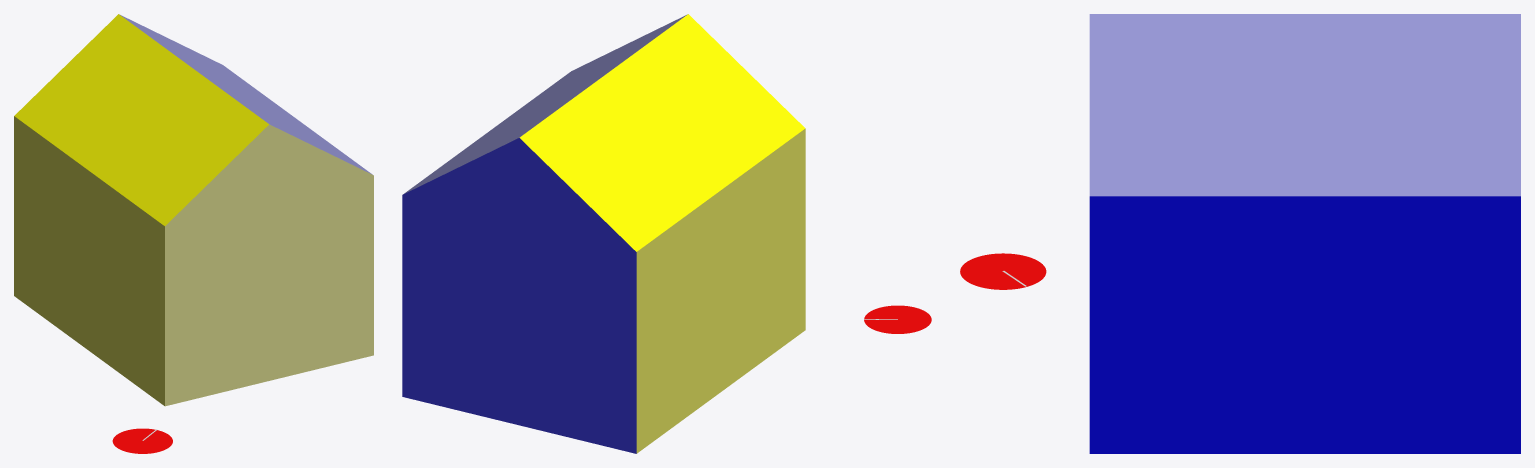
Rendered from result.glb.
3 renders of one model, left to right at view 1: azimuth 30°, elevation 25°; view 2: azimuth 150°, elevation 25°; view 3: azimuth 270°, elevation 25°, orthographic. The views are drawn at different scales.
Visible parts, largest first — view 1: c977d32d-4460-41e7-8609-a6d73a7ba4db__undefined, dfb93816-a611-49a3-a8ef-96ea596f0516__undefined, 6f1d40ad-c9a0-425a-af7d-65720e94d9b1__undefined, b4e93b13-15a7-4a49-be53-9a7135158794__undefined, 385c4873-cb8c-447d-9b7a-fa519c753bcb__Circle; view 2: 127f5744-077b-455f-afeb-7c866529dd30__undefined, dfb93816-a611-49a3-a8ef-96ea596f0516__undefined, 6f1d40ad-c9a0-425a-af7d-65720e94d9b1__undefined, b4e93b13-15a7-4a49-be53-9a7135158794__undefined, 385c4873-cb8c-447d-9b7a-fa519c753bcb__Circle; view 3: ea82c643-77cf-49f3-8a63-f17103bcdd37__undefined, b4e93b13-15a7-4a49-be53-9a7135158794__undefined, 385c4873-cb8c-447d-9b7a-fa519c753bcb__Circle.
Part boxes in pixels (x1=…): c977d32d-4460-41e7-8609-a6d73a7ba4db__undefined: x1=165, y1=124, x2=373, y2=406; dfb93816-a611-49a3-a8ef-96ea596f0516__undefined: x1=14, y1=116, x2=164, y2=405; 6f1d40ad-c9a0-425a-af7d-65720e94d9b1__undefined: x1=14, y1=14, x2=268, y2=225; b4e93b13-15a7-4a49-be53-9a7135158794__undefined: x1=119, y1=14, x2=372, y2=174; 385c4873-cb8c-447d-9b7a-fa519c753bcb__Circle: x1=112, y1=428, x2=172, y2=453; 127f5744-077b-455f-afeb-7c866529dd30__undefined: x1=402, y1=138, x2=636, y2=453; dfb93816-a611-49a3-a8ef-96ea596f0516__undefined: x1=636, y1=128, x2=805, y2=453; 6f1d40ad-c9a0-425a-af7d-65720e94d9b1__undefined: x1=519, y1=14, x2=805, y2=251; b4e93b13-15a7-4a49-be53-9a7135158794__undefined: x1=403, y1=14, x2=687, y2=194; 385c4873-cb8c-447d-9b7a-fa519c753bcb__Circle: x1=864, y1=305, x2=931, y2=333; ea82c643-77cf-49f3-8a63-f17103bcdd37__undefined: x1=1089, y1=196, x2=1520, y2=453; b4e93b13-15a7-4a49-be53-9a7135158794__undefined: x1=1089, y1=14, x2=1520, y2=196; 385c4873-cb8c-447d-9b7a-fa519c753bcb__Circle: x1=960, y1=253, x2=1046, y2=289.
Size of the model in its own units: 550 by 469 by 650.
